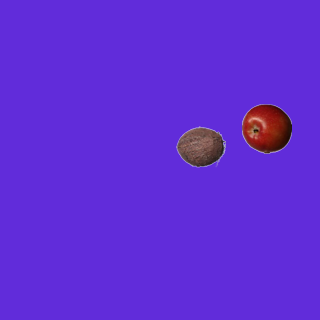Apple Braeburn: (241, 103, 291, 153)
Cocos: (175, 121, 225, 171)
